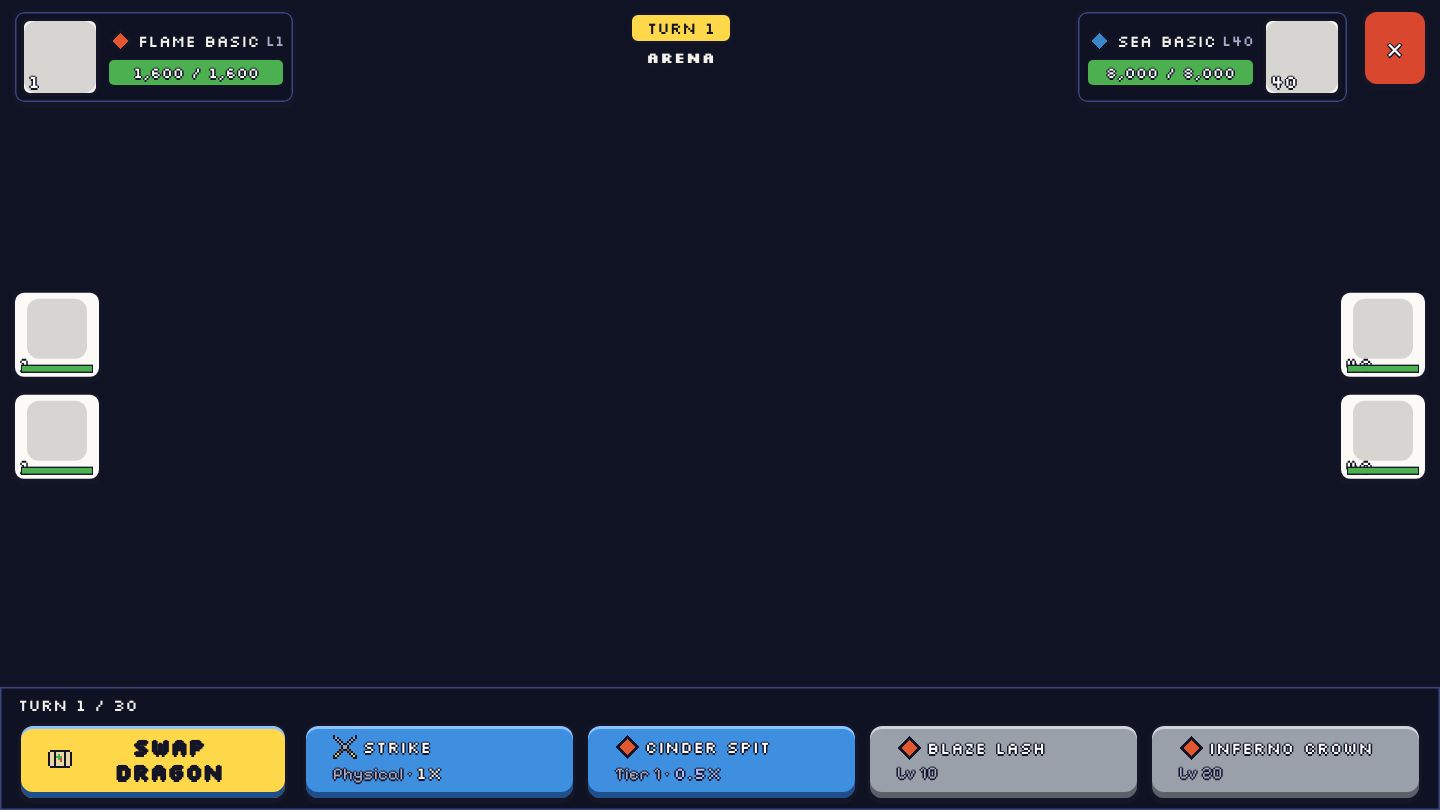
Test: BattlePanel › during a replacement, a bench portrait sends that dragon in (R101)
Click the button "Strike Physical · 1x": (440, 762) [303,723,576,801]
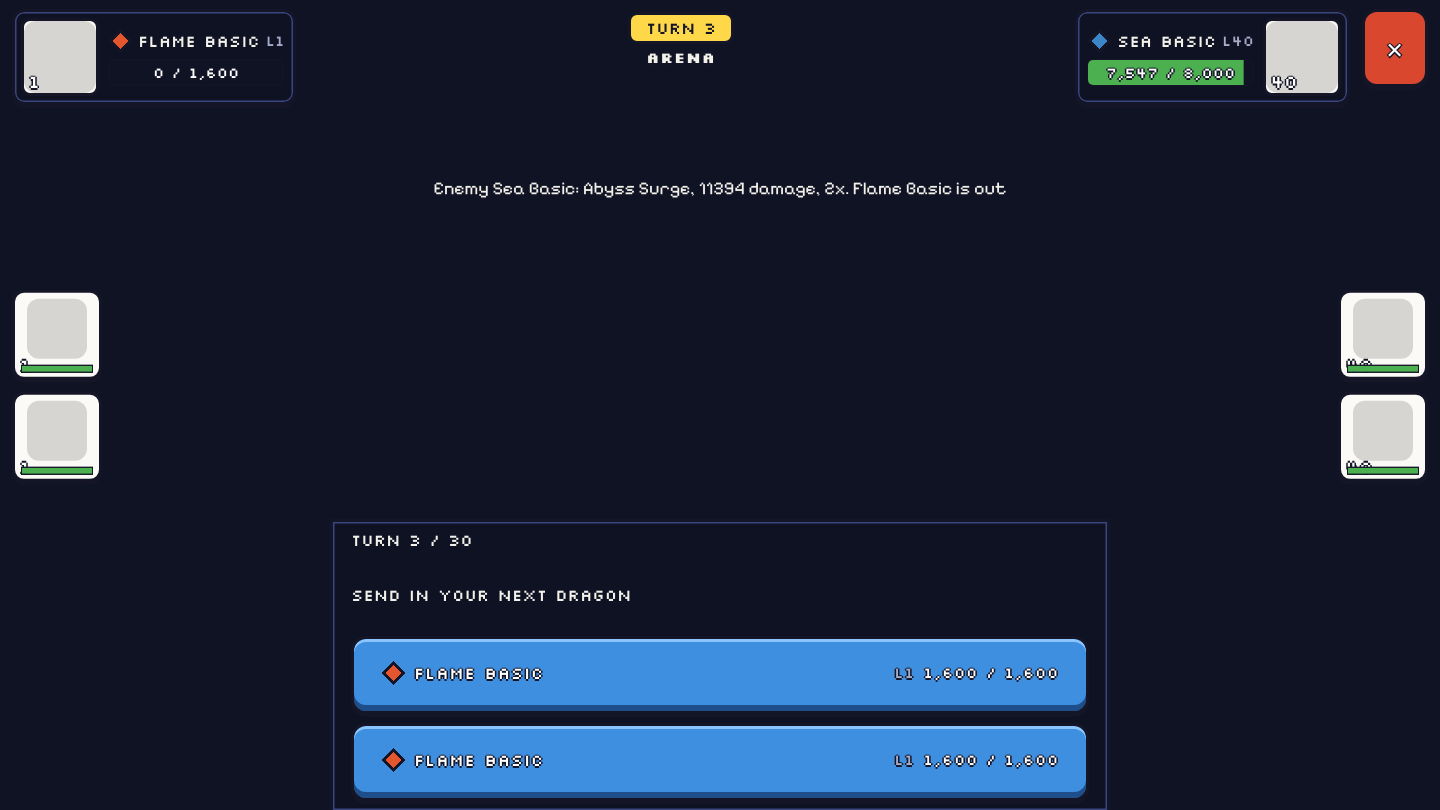
Result: the element named "replacement" is shown at [351,561,1089,801]
Click the button named "swap to ": (57, 335) [12,290,102,380]
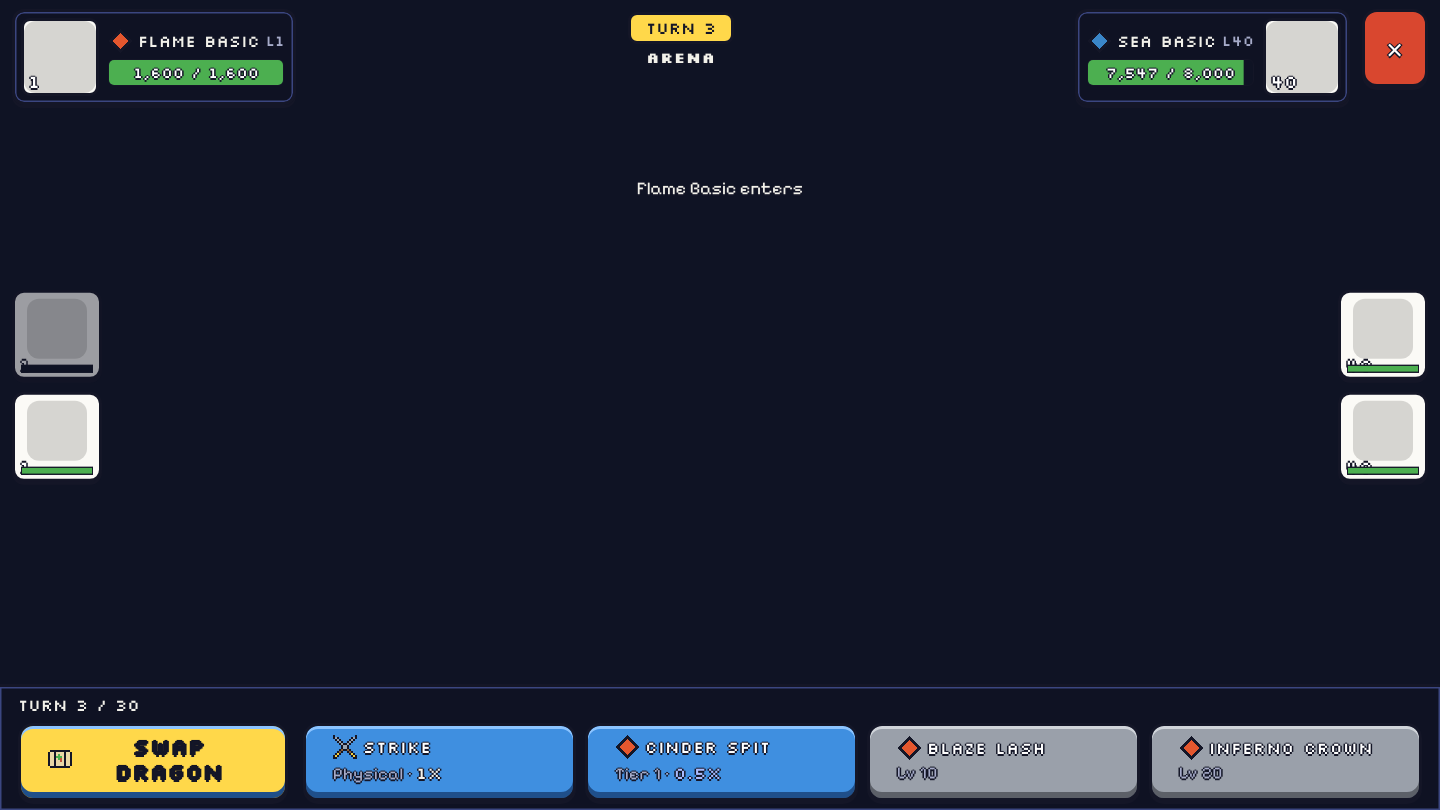
Result: the element named "move" is shown at [303,723,1422,801]
